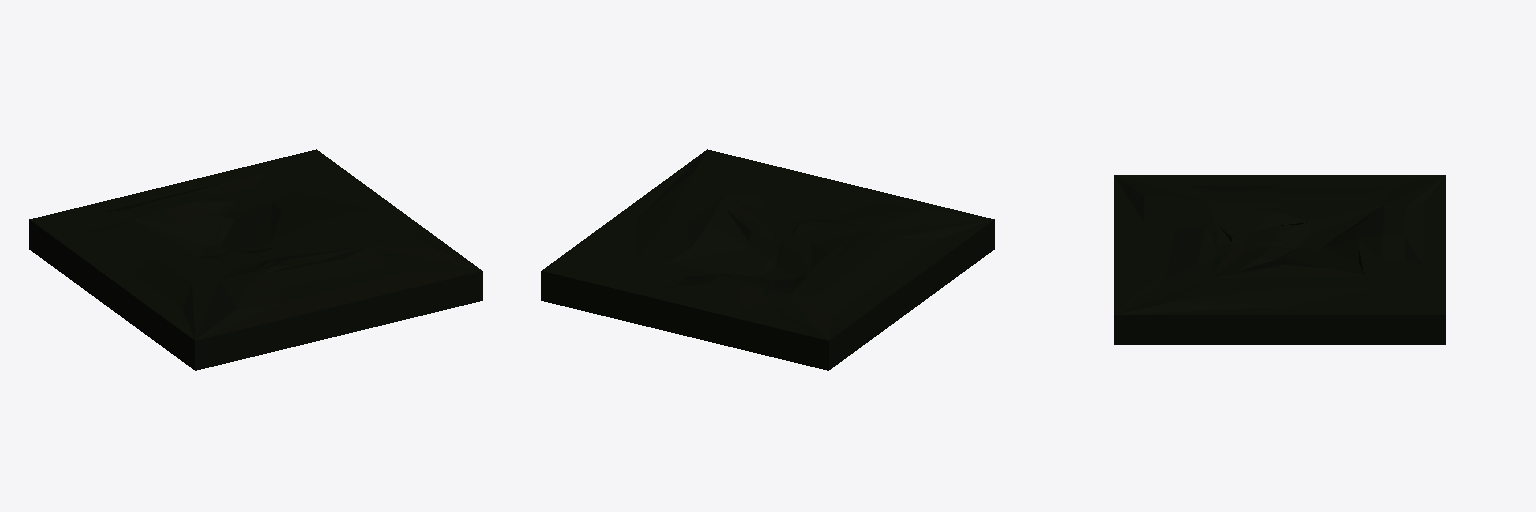
Rendered from Dirt.obj.
3 renders of one model, left to right at view 1: azimuth 30°, elevation 25°; view 2: azimuth 150°, elevation 25°; view 3: azimuth 270°, elevation 25°, orthographic.
Visible parts, largest first — view 1: Cube; view 2: Cube; view 3: Cube.
Part boxes in pixels (left/top/right/bottom): Cube: left=29, top=149, right=482, bottom=370; Cube: left=541, top=149, right=994, bottom=370; Cube: left=1114, top=175, right=1445, bottom=344.
Bounding box in the file's own units: 2 × 0.2556 × 2.